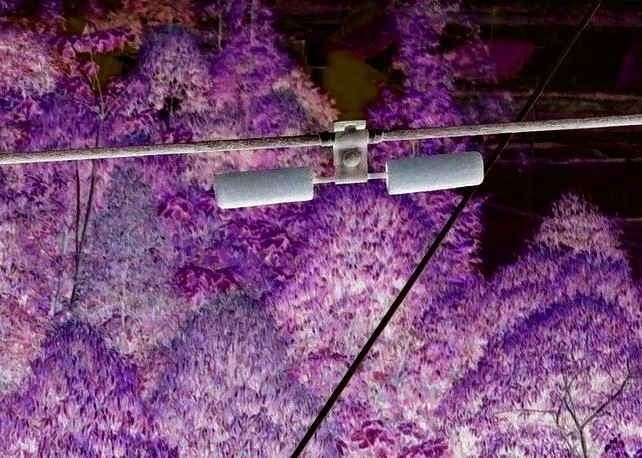Shockproof hammer: (203, 114, 489, 208)
